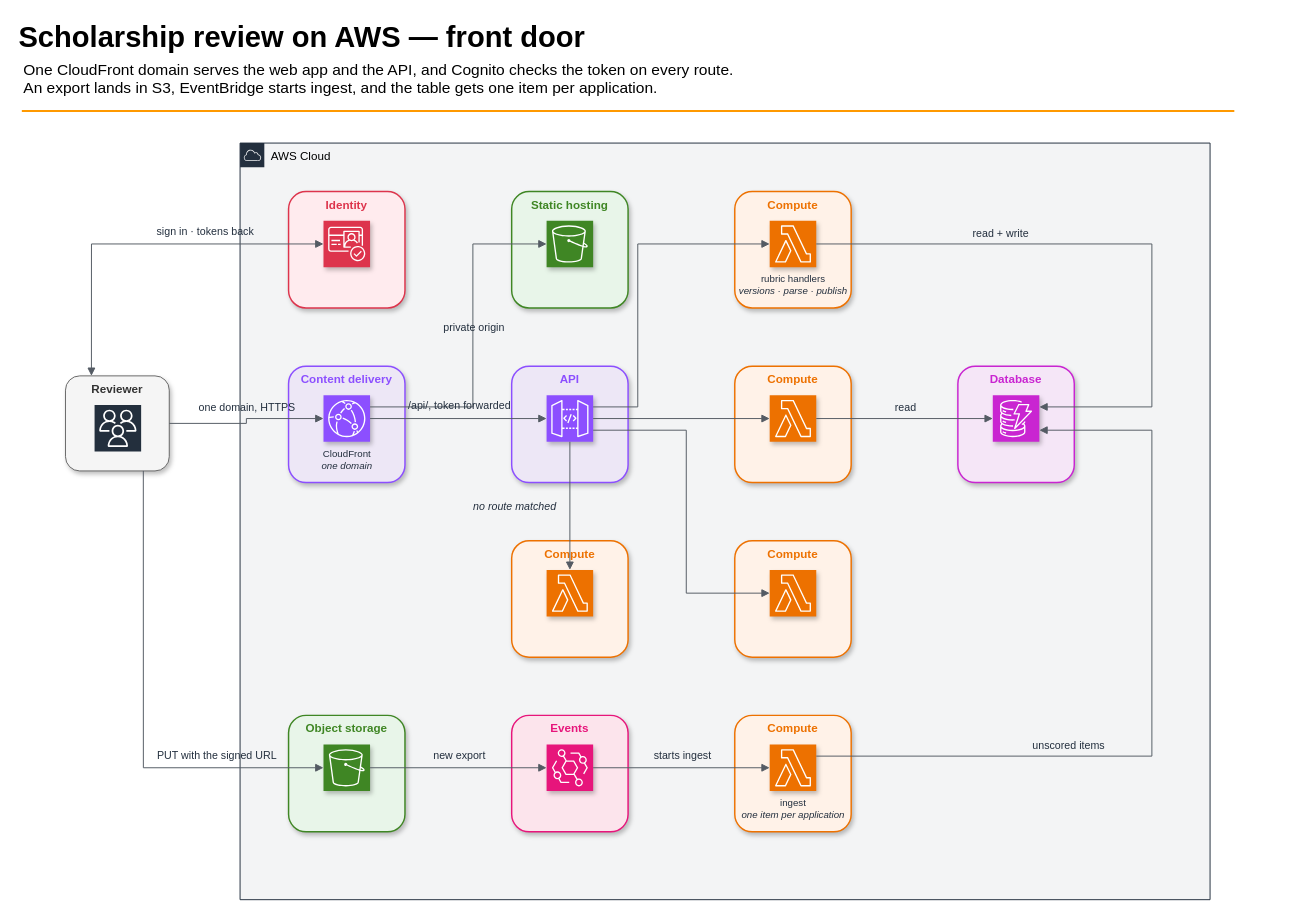
This 1299x917 diagram has some shape labels left out. The shapes that lost their labels are listed below. From the top down, each one's centre as x and y in pixels, then its label:
At (347,245): "Amazon Cognito user pool".
At (570,245): "S3 site bucket web build".
At (570,419): "API Gateway /api/ · Cognito JWT".
At (793,419): "read handlers cohorts · cohort · ranked application · scores".
At (1016,419): "DynamoDB central table".
At (570,594): "api-placeholder default route · 501".
At (793,594): "upload signs a PUT URL".
At (347,769): "S3 env bucket uploads/".
At (570,769): "EventBridge object created".
